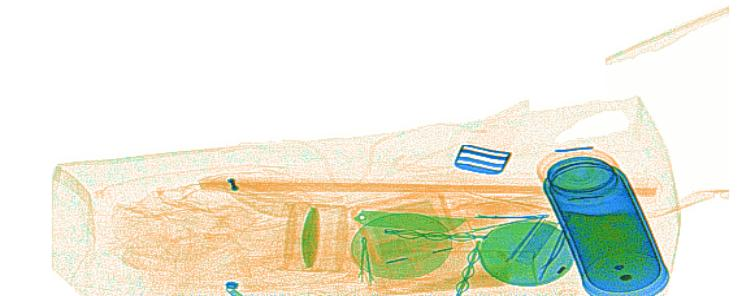knife: (352, 209, 465, 234)
